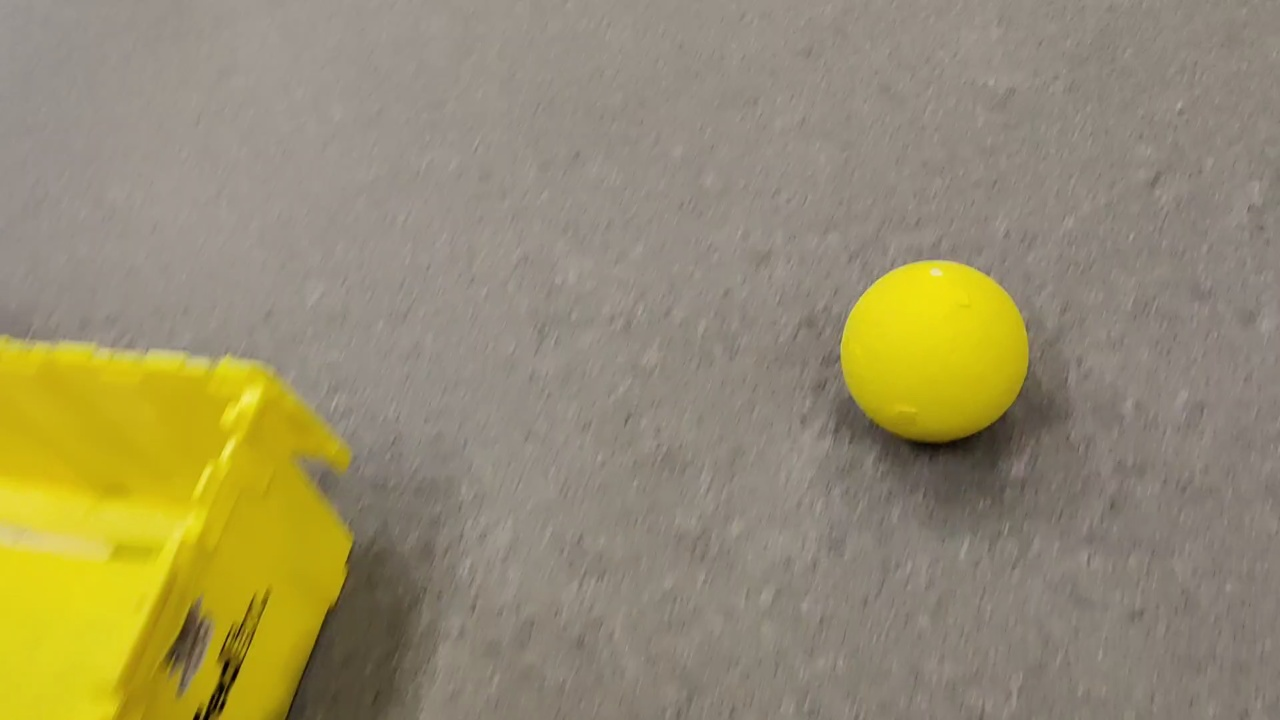Ball: (841, 259, 1030, 448)
